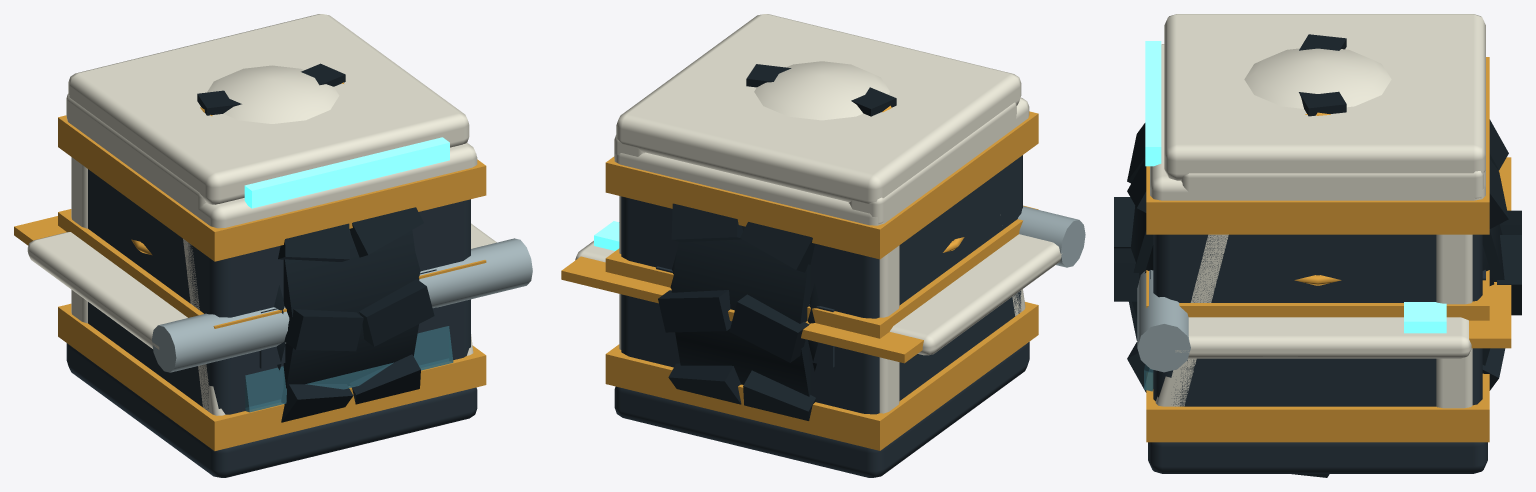
The model's file is machine-kit-lod1.glb.
3 renders of one model, left to right at view 1: azimuth 30°, elevation 25°; view 2: azimuth 150°, elevation 25°; view 3: azimuth 270°, elevation 25°, orthographic. The views are drawn at different scales.
Parts seen in each view (by area): view 1: cockpit_Ceramic_enamel, ballast_Safety_ochre, wheel_Tire_rubber, ballast_Graphite_chassis, cockpit_Graphite_chassis, wing_Machined_aluminium, wing_Ceramic_enamel, frame_Ceramic_enamel, balloon_Ceramic_enamel, cockpit_Status_cyan, cockpit_Smoked_canopy, wing_Safety_ochre (+1 smaller); view 2: cockpit_Ceramic_enamel, ballast_Safety_ochre, wheel_Tire_rubber, ballast_Graphite_chassis, cockpit_Graphite_chassis, wing_Ceramic_enamel, frame_Ceramic_enamel, balloon_Ceramic_enamel, wing_Safety_ochre, wing_Machined_aluminium, frame_Graphite_chassis, wing_Status_cyan; view 3: cockpit_Ceramic_enamel, ballast_Graphite_chassis, ballast_Safety_ochre, wheel_Tire_rubber, wing_Ceramic_enamel, cockpit_Graphite_chassis, balloon_Ceramic_enamel, frame_Ceramic_enamel, wing_Machined_aluminium, wing_Safety_ochre, cockpit_Status_cyan, wing_Status_cyan (+1 smaller).
Boxes of the visible parts, x1,y1,x2,y2 form: cockpit_Ceramic_enamel: (66, 14, 473, 415); ballast_Safety_ochre: (58, 115, 486, 450); wheel_Tire_rubber: (197, 63, 434, 422); ballast_Graphite_chassis: (88, 169, 470, 414); cockpit_Graphite_chassis: (66, 343, 477, 477); wing_Machined_aluminium: (152, 238, 532, 372); wing_Ceramic_enamel: (27, 223, 496, 349); frame_Ceramic_enamel: (67, 115, 477, 228); balloon_Ceramic_enamel: (207, 65, 339, 123); cockpit_Status_cyan: (244, 137, 449, 208); cockpit_Smoked_canopy: (245, 326, 453, 412); wing_Safety_ochre: (14, 216, 66, 245); cockpit_Ceramic_enamel: (614, 14, 1025, 413); ballast_Safety_ochre: (605, 111, 1038, 450); wheel_Tire_rubber: (658, 64, 896, 420); ballast_Graphite_chassis: (621, 155, 1022, 414); cockpit_Graphite_chassis: (614, 342, 1029, 477); wing_Ceramic_enamel: (575, 234, 1062, 355); frame_Ceramic_enamel: (614, 97, 1029, 225); balloon_Ceramic_enamel: (754, 61, 889, 120); wing_Safety_ochre: (561, 256, 923, 363); wing_Machined_aluminium: (1018, 206, 1085, 267); frame_Graphite_chassis: (656, 266, 834, 367); wing_Status_cyan: (594, 221, 619, 250); cockpit_Ceramic_enamel: (1155, 14, 1485, 408); ballast_Graphite_chassis: (1153, 234, 1482, 406); ballast_Safety_ochre: (1146, 57, 1489, 442); wheel_Tire_rubber: (1114, 34, 1521, 477); wing_Ceramic_enamel: (1175, 317, 1471, 358); cockpit_Graphite_chassis: (1148, 442, 1487, 473); balloon_Ceramic_enamel: (1244, 48, 1391, 108); frame_Ceramic_enamel: (1150, 44, 1485, 200); wing_Machined_aluminium: (1137, 270, 1190, 372); wing_Safety_ochre: (1469, 157, 1511, 348); cockpit_Status_cyan: (1145, 41, 1161, 166); wing_Status_cyan: (1404, 302, 1446, 333).
Bounding box in the file's own units: 1.26 × 1.17 × 1.14.
